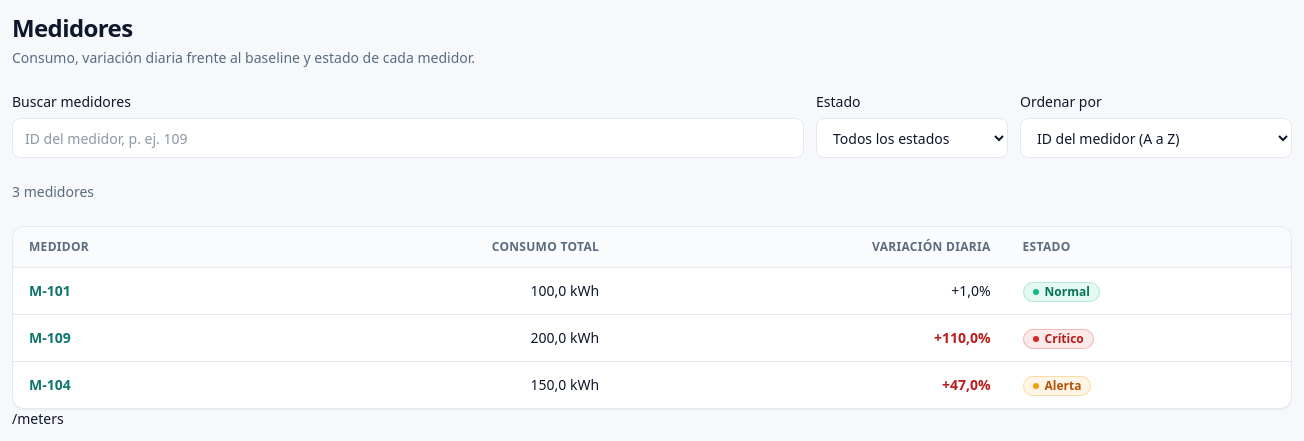
it: MetersPage › typing 109 leaves only M-109 and puts the search in the URL
Expected: the link "M-101" is shown, [29, 281, 71, 300]
Type "109" into the search field labelled "Buscar medidores". click: (408, 138)
box: [12, 118, 804, 158]
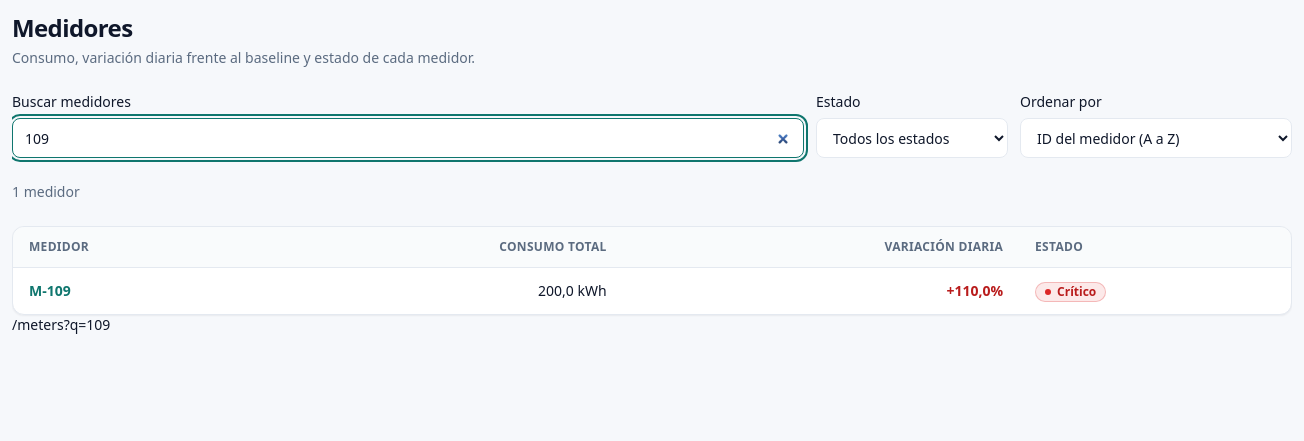
Expected: the number of rows is 2, [13, 227, 1291, 268]; [13, 268, 1291, 314]
Expected: the text named "location" reads "/meters?q=109", [12, 315, 110, 334]
